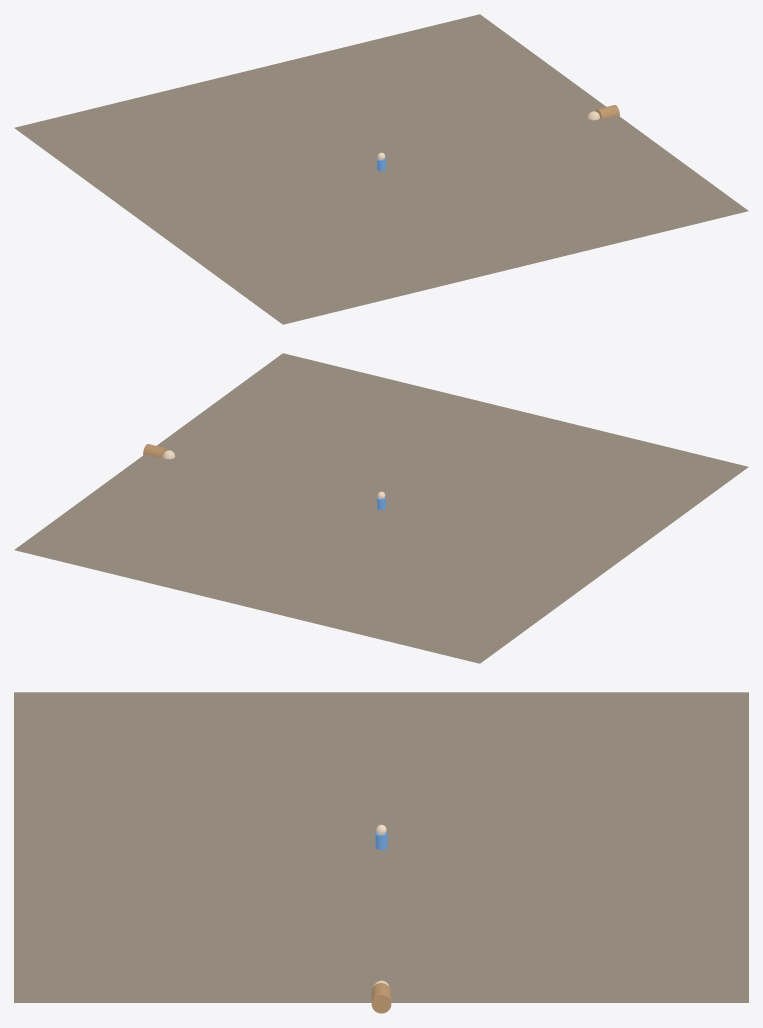
File: models_opening_animation.glb
3 renders of one model, top to bottom at view 1: azimuth 30°, elevation 25°; view 2: azimuth 150°, elevation 25°; view 3: azimuth 270°, elevation 25°, orthographic. The views are drawn at different scales.
Parts seen in each view (by area): view 1: Ground; view 2: Ground; view 3: Ground, Uncle_Body.
Boxes of the visible parts, x1,y1,x2,y2 form: Ground: (14,14,748,324); Ground: (14,353,748,663); Ground: (14,692,748,1002); Uncle_Body: (371,983,391,1013).
Size of the model in its own units: 30.11 by 1.44 by 30.
